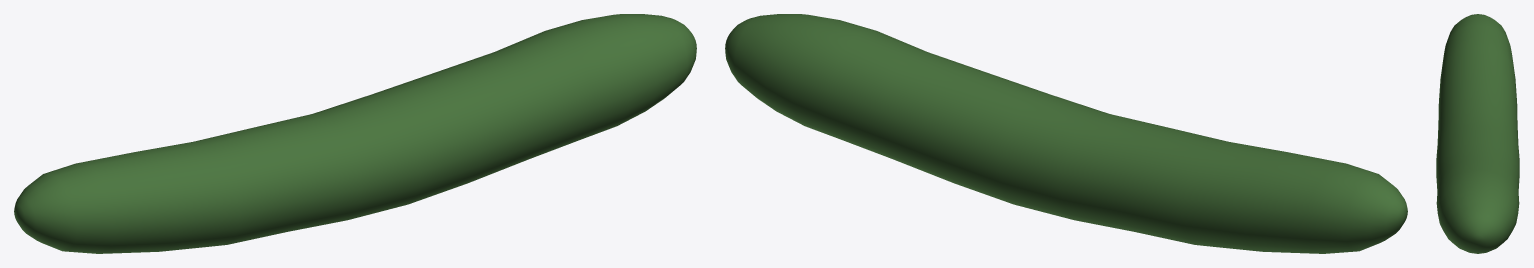
Rendered from cucumber.fbx.
3 views of the same model, side by side, from view 1: azimuth 30°, elevation 25°; view 2: azimuth 150°, elevation 25°; view 3: azimuth 270°, elevation 25° (orthographic). The views are drawn at different scales.
Visible parts, largest first — view 1: cucumber_geo; view 2: cucumber_geo; view 3: cucumber_geo.
Boxes of the visible parts, left/top/right/bottom form: cucumber_geo: left=14, top=14, right=696, bottom=253; cucumber_geo: left=725, top=14, right=1407, bottom=253; cucumber_geo: left=1436, top=14, right=1519, bottom=253.
Bounding box in the file's own units: 24.65 × 4.45 × 3.94.
